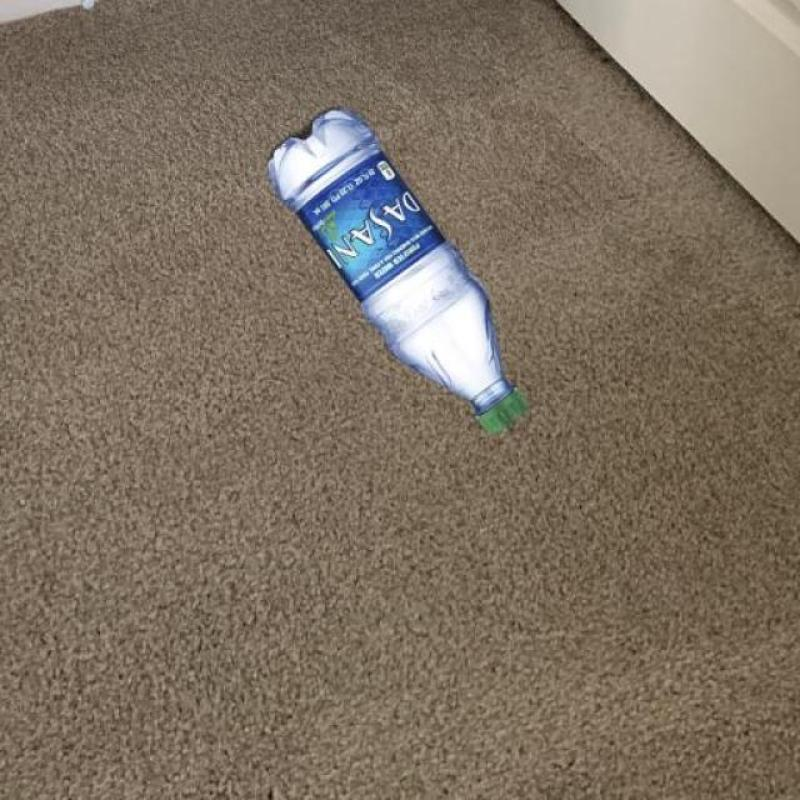botella: (270, 111, 522, 433)
